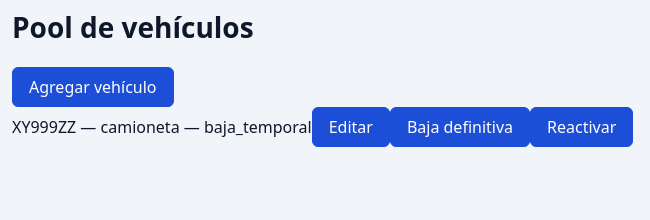
Test case: VehiculosAdminPage › dispara la reactivación y actualiza el estado tras el éxito
This screenshot has width=650, height=220.
Expected: the text "XY999ZZ — camioneta — baja_temporal" is shown, [12,116,312,138]
Click the button "Reactivar". click: x=582, y=126
box: [530,106,633,146]
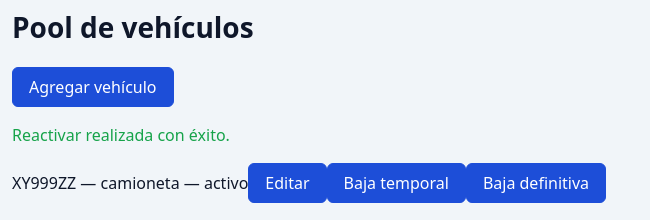
Expected: the text "XY999ZZ — camioneta — activo" is shown, [12,172,248,194]
Expected: the message shows "éxito", [12,124,230,146]
